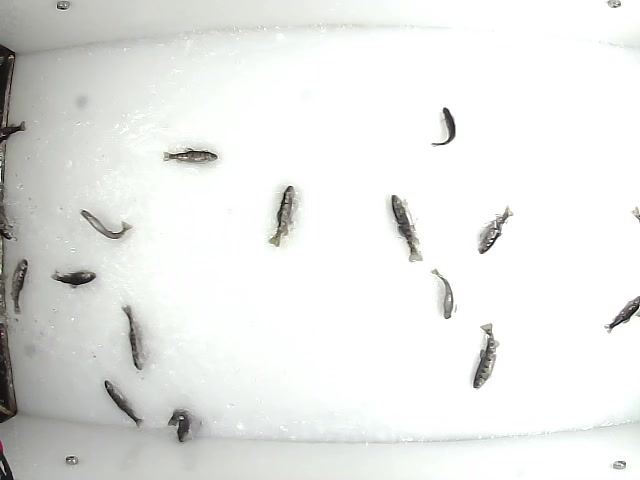fish: (389, 192, 422, 264), (117, 302, 147, 373), (478, 201, 516, 255), (267, 181, 297, 249), (103, 377, 143, 426), (471, 320, 497, 390), (79, 208, 135, 239), (427, 100, 458, 149), (429, 267, 456, 320), (7, 253, 29, 316), (165, 407, 196, 444), (50, 266, 98, 289), (161, 146, 218, 164)
